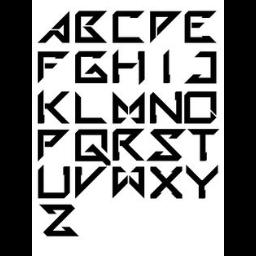c: (110, 8, 148, 48)
i: (156, 50, 172, 86)
l: (71, 92, 107, 130)
o: (184, 89, 220, 125)
t: (186, 126, 222, 162)
u: (34, 160, 74, 200)
x: (150, 164, 186, 208)
y: (185, 162, 221, 204)
z: (36, 202, 90, 244)
